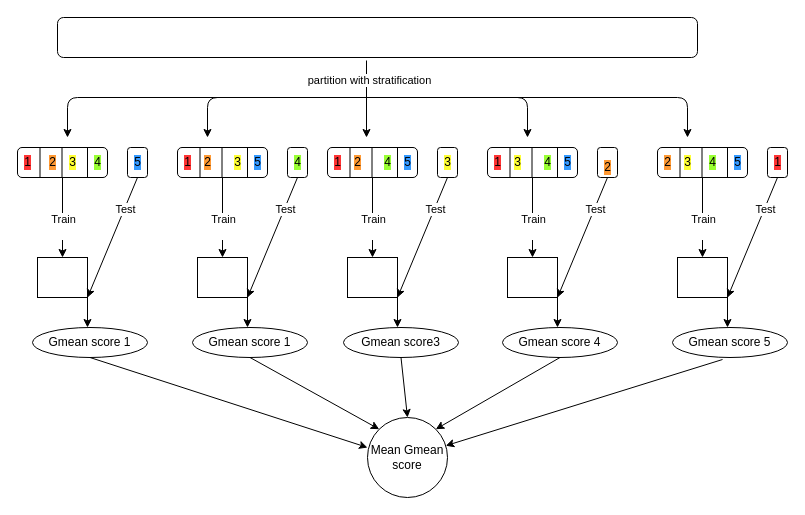
This 805x515 diagram has some shape labels left out. Here are the shapes that lost their labels. From the top down, the centre of each, then its label:
At (x=377, y=37): "Original dataset".
At (x=62, y=277): "M1".
At (x=222, y=277): "M2".
At (x=372, y=277): "M3".
At (x=532, y=277): "M4".
At (x=702, y=277): "M5".
